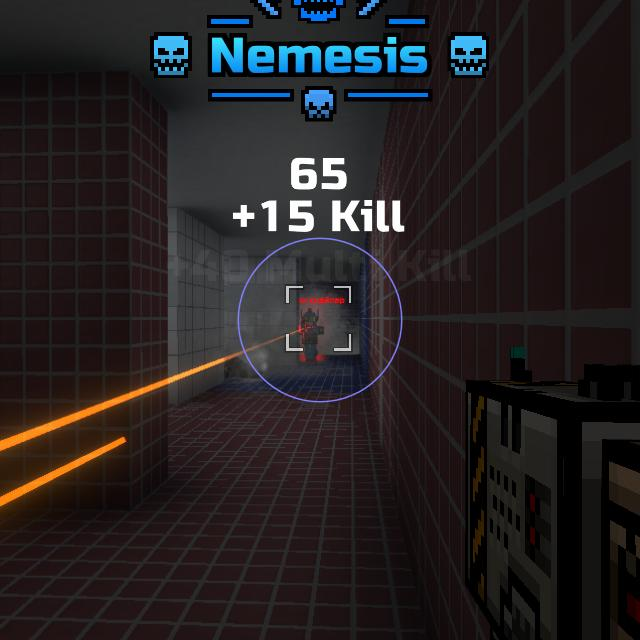Enemy: (300, 308, 325, 361)
